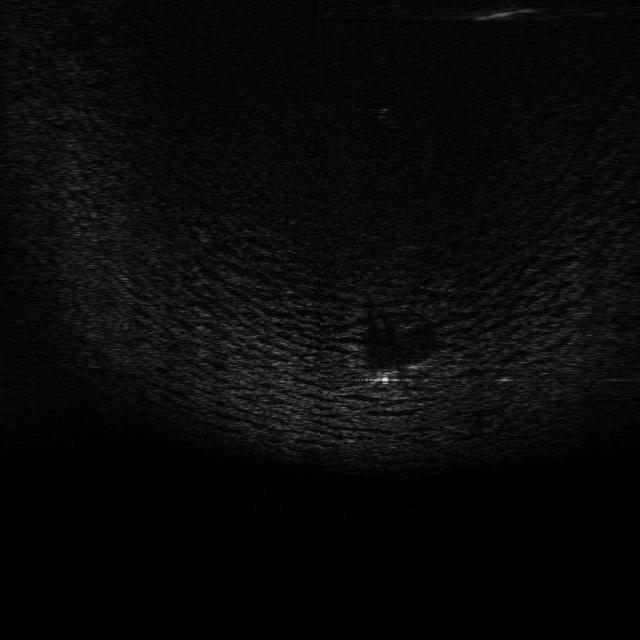plane: (366, 359, 433, 390)
